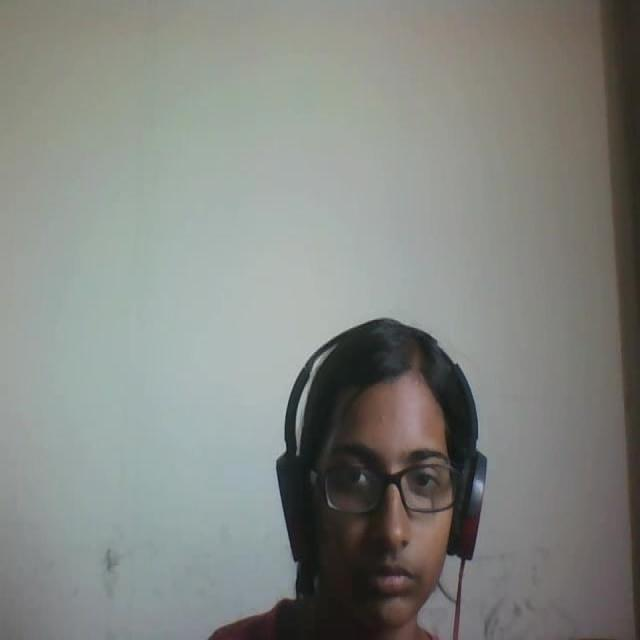Engaged: (274, 249, 542, 640)
